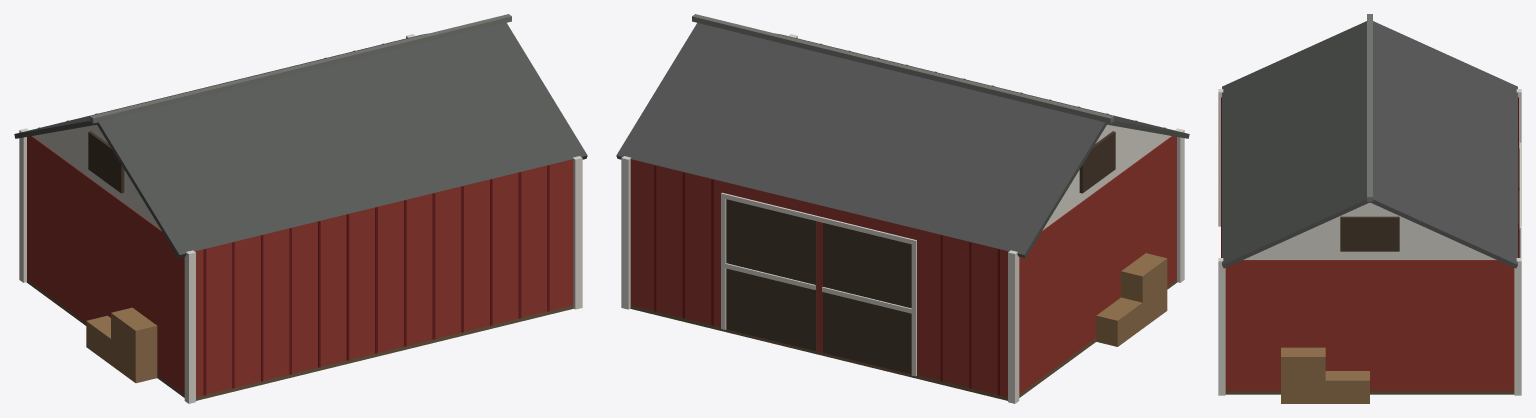
Rendered from barn.glb.
3 renders of one model, left to right at view 1: azimuth 30°, elevation 25°; view 2: azimuth 150°, elevation 25°; view 3: azimuth 270°, elevation 25°, orthographic. The views are drawn at different scales.
Visible parts, largest first — view 1: barn; view 2: barn; view 3: barn.
Boxes of the visible parts, left/top/right/bottom form: barn: left=14, top=14, right=587, bottom=403; barn: left=616, top=14, right=1189, bottom=403; barn: left=1218, top=14, right=1521, bottom=403.
Size of what is drawn, in the model's own units: 12 by 6.1 by 8.2.
1 material, 1 textured.
